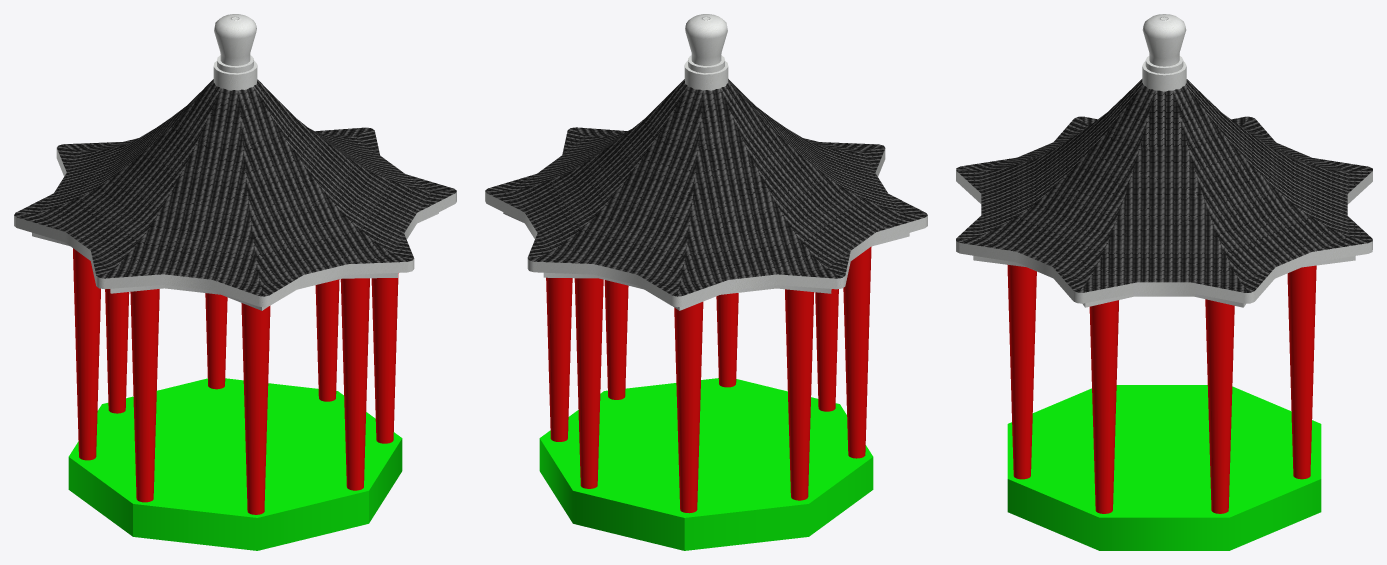
File: SM_LiangTing.FBX
3 renders of one model, left to right at view 1: azimuth 30°, elevation 25°; view 2: azimuth 150°, elevation 25°; view 3: azimuth 270°, elevation 25°, orthographic.
Parts seen in each view (by area): view 1: SM_LiangTing; view 2: SM_LiangTing; view 3: SM_LiangTing.
Part boxes in pixels (bbox=[...]): SM_LiangTing: bbox=[14, 14, 456, 550]; SM_LiangTing: bbox=[485, 14, 927, 550]; SM_LiangTing: bbox=[956, 14, 1372, 550].
Bounding box in the file's own units: 668 × 825 × 668.
Materials: 4 (2 with a texture image).
